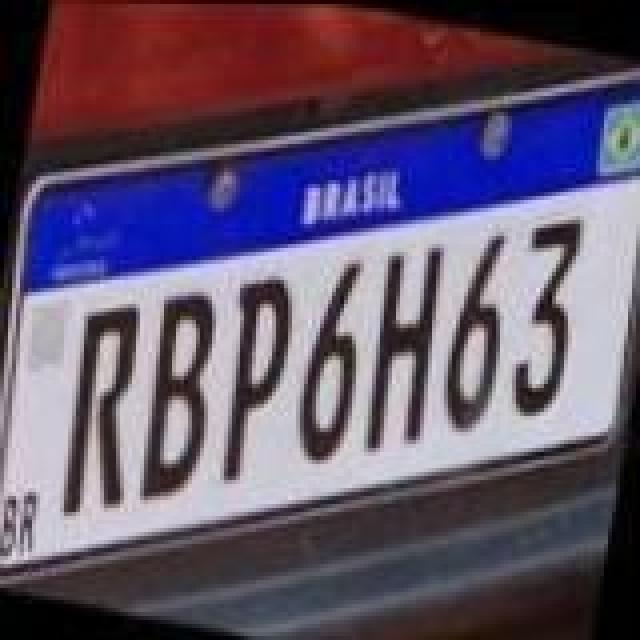3: (496, 208, 592, 420)
6: (292, 254, 380, 466), (432, 222, 520, 434)
B: (126, 286, 230, 514)
H: (354, 236, 454, 464)
P: (206, 264, 306, 488)
R: (48, 298, 156, 530)
